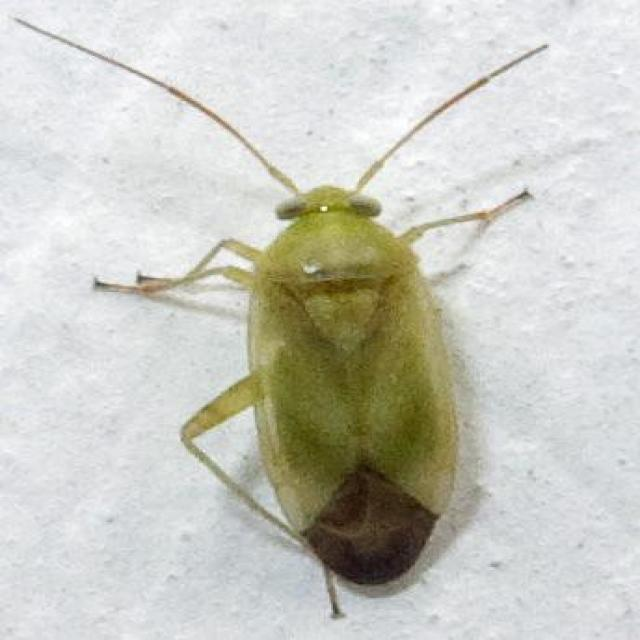Miridae-Adult-: (57, 7, 556, 596)
